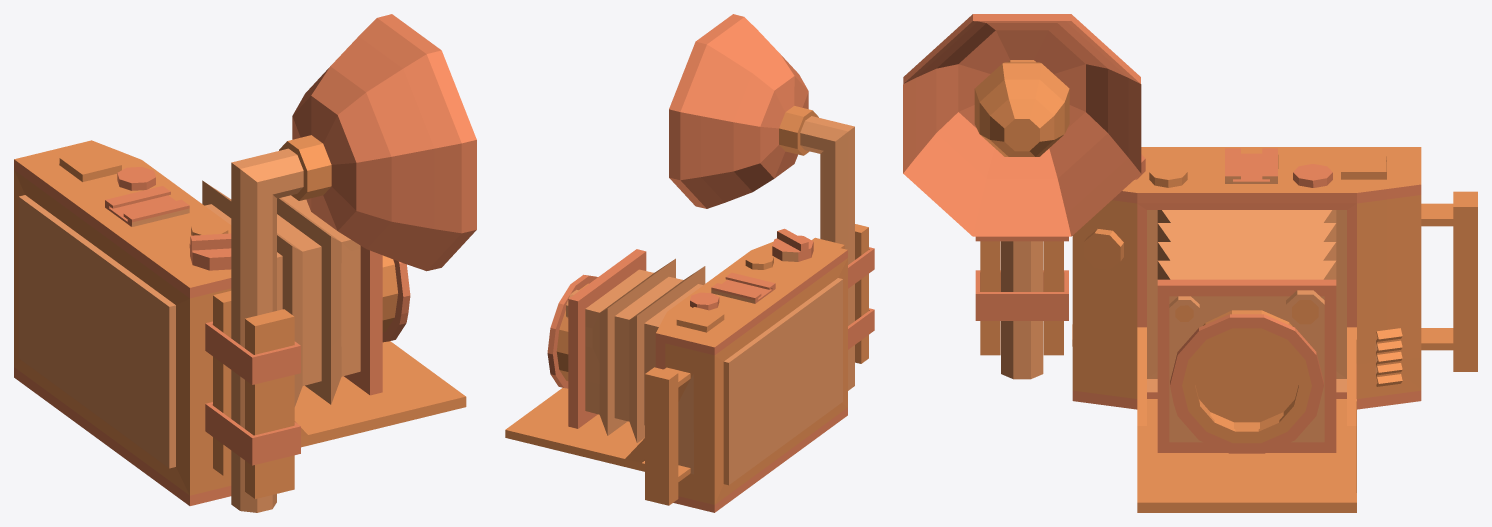
Rendered from CameraGOLD.fbx.
3 views of the same model, side by side, from view 1: azimuth 30°, elevation 25°; view 2: azimuth 150°, elevation 25°; view 3: azimuth 270°, elevation 25° (orthographic). The views are drawn at different scales.
Visible parts, largest first — view 1: Camera.001, Flash; view 2: Camera.001, Flash, Camera; view 3: Camera.001, Flash, Camera.
Part boxes in pixels (<box>): Camera.001: <box>14,140,466,505</box>; Flash: <box>205,14,476,512</box>; Camera.001: <box>505,228,847,512</box>; Flash: <box>669,14,874,390</box>; Camera: <box>645,367,690,505</box>; Camera.001: <box>1072,147,1421,512</box>; Flash: <box>903,14,1141,379</box>; Camera: <box>1421,191,1477,371</box>.
Bounding box in the file's own units: 501 × 672 × 796.
